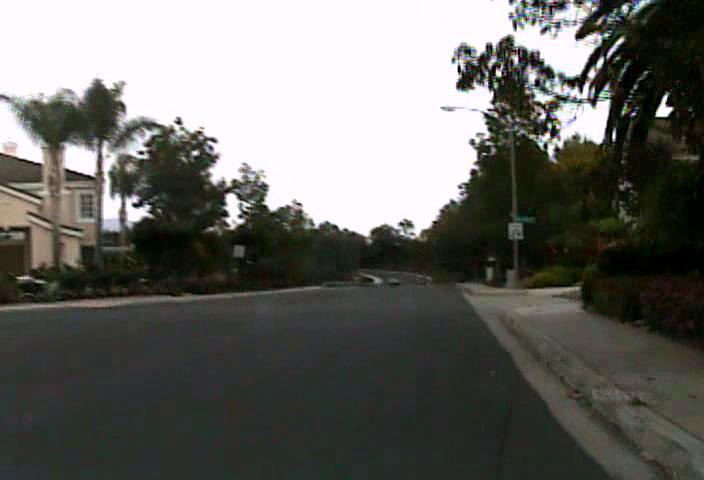speedLimitUrdbl: (507, 221, 523, 239)
